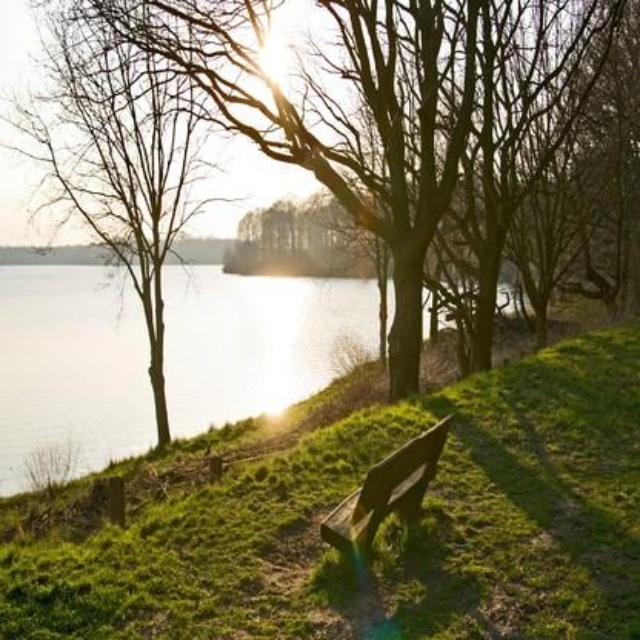obstacle: (315, 388, 471, 577)
